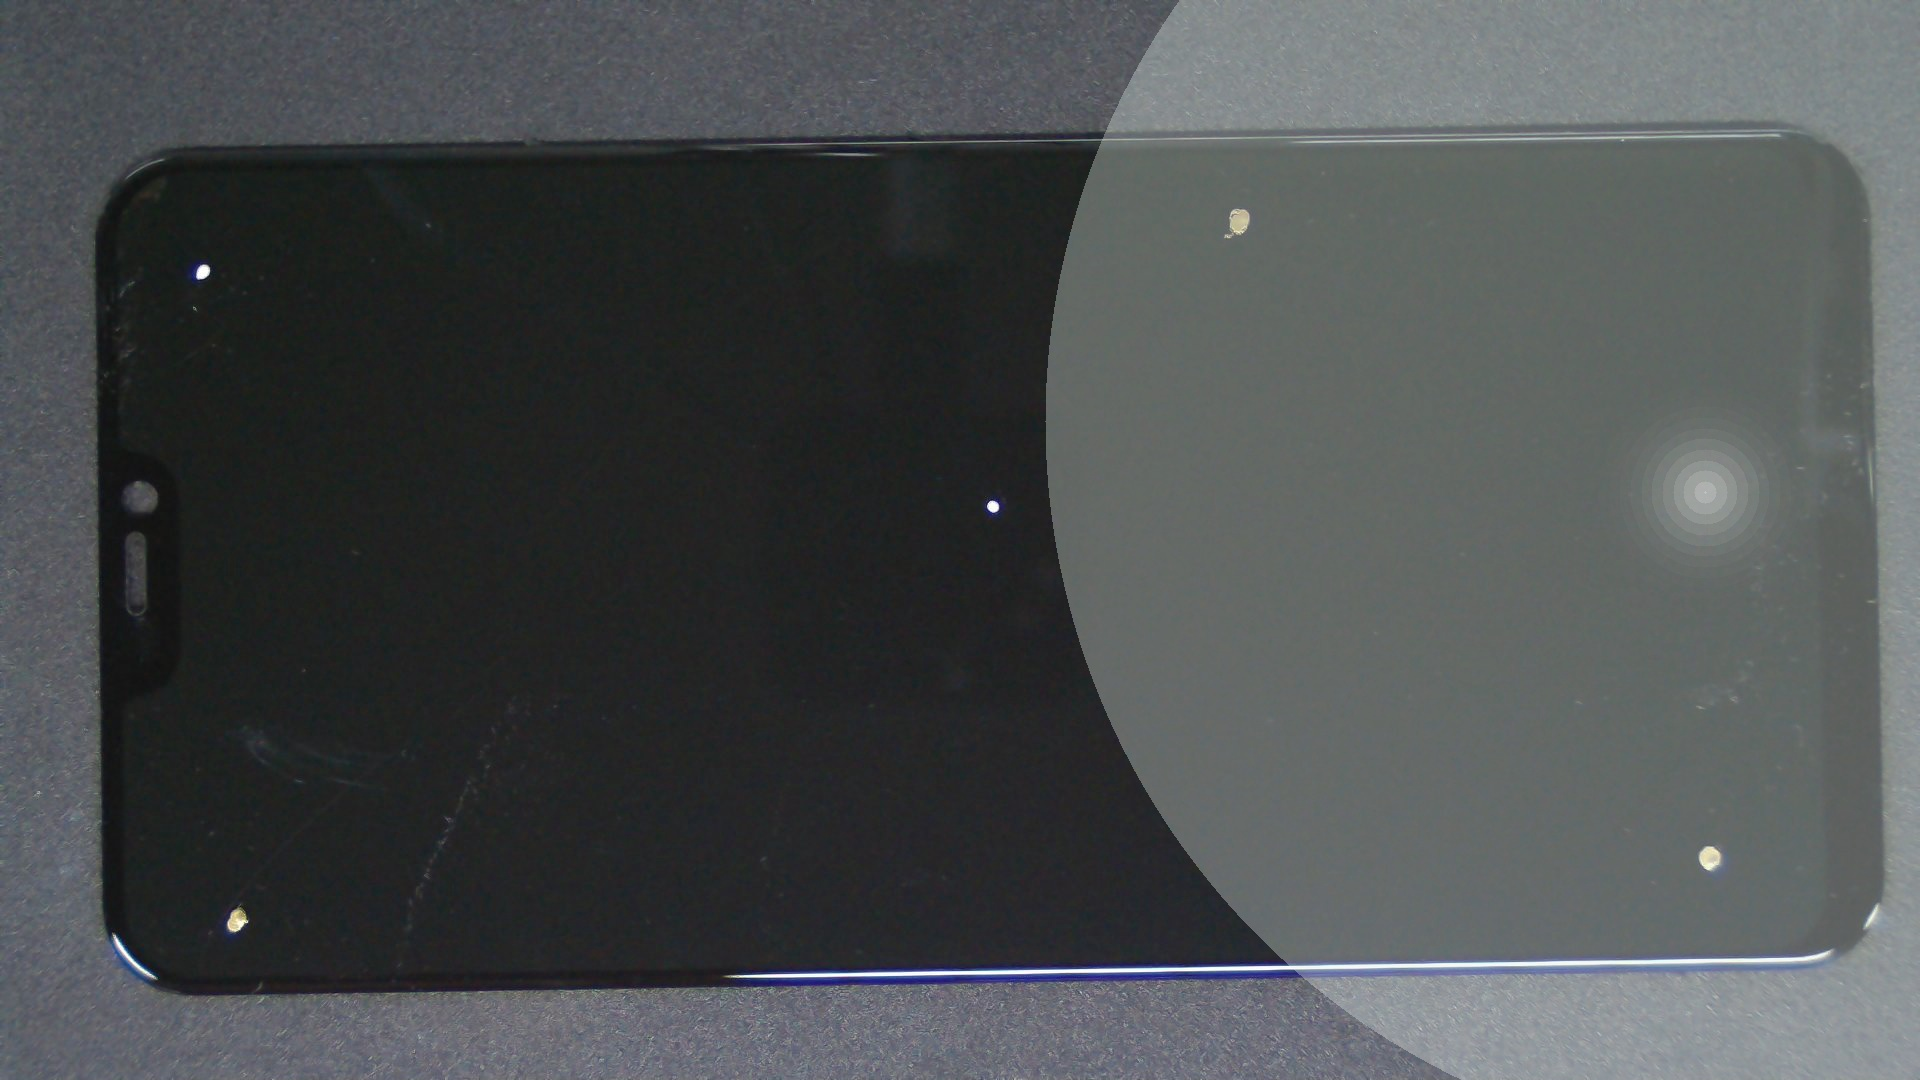oil: (857, 421, 1920, 1080), (498, 247, 1482, 750), (618, 103, 1854, 310), (120, 452, 356, 1080), (104, 131, 310, 392)
